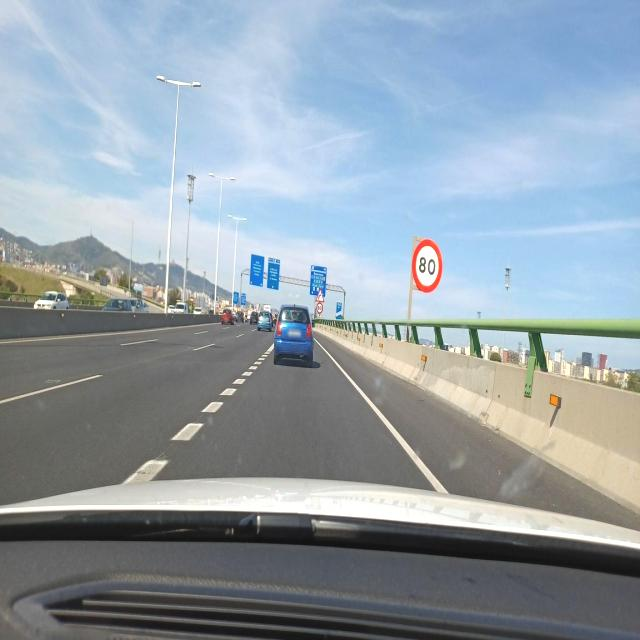car: (273, 303, 313, 367), (34, 291, 70, 311), (101, 297, 137, 312), (257, 311, 273, 332), (221, 308, 234, 326), (250, 311, 258, 325)
